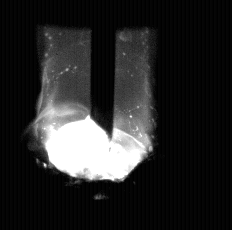arame: (91, 0, 115, 140)
poca: (44, 0, 152, 230)
